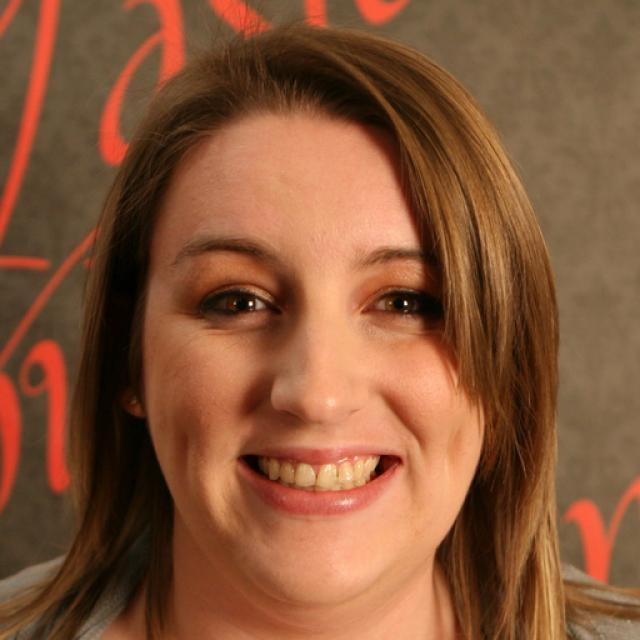happy: (142, 93, 486, 608)
